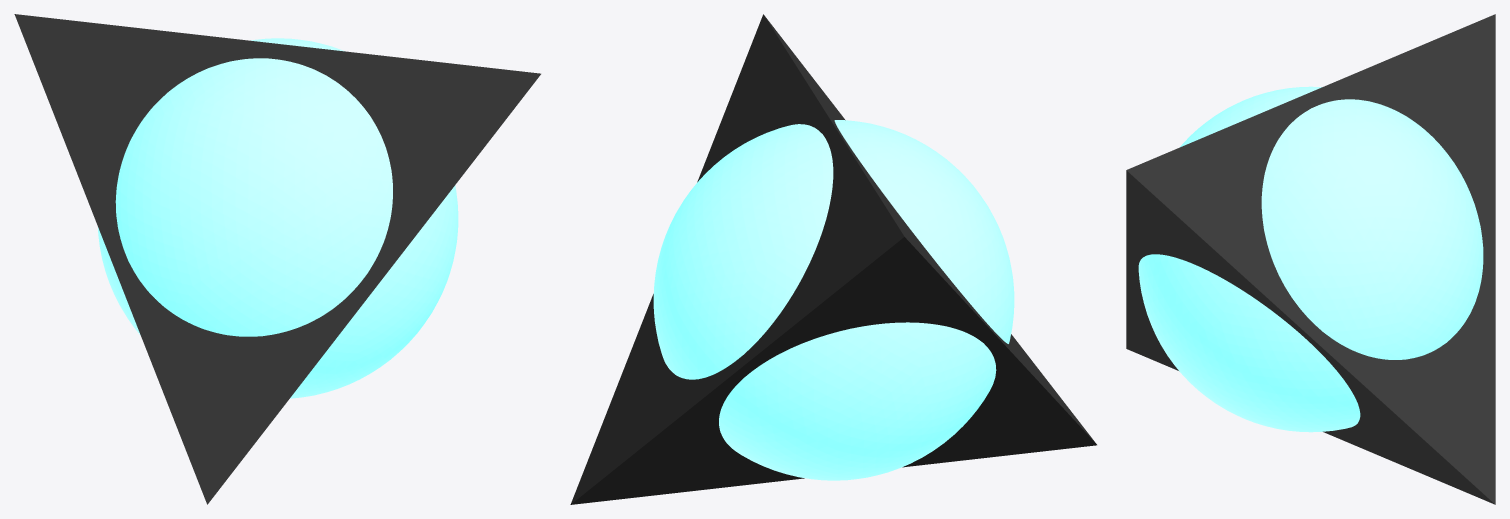
Rendered from svetelny_orb_v_tetrahedronu.glb.
3 renders of one model, left to right at view 1: azimuth 30°, elevation 25°; view 2: azimuth 150°, elevation 25°; view 3: azimuth 270°, elevation 25°, orthographic. The views are drawn at different scales.
Visible parts, largest first — view 1: TurquoiseOrb, BlackTetrahedron; view 2: TurquoiseOrb, BlackTetrahedron; view 3: TurquoiseOrb, BlackTetrahedron.
Boxes of the visible parts, x1=… form: TurquoiseOrb: x1=98, y1=38, x2=458, y2=398; BlackTetrahedron: x1=14, y1=14, x2=540, y2=504; TurquoiseOrb: x1=653, y1=120, x2=1014, y2=480; BlackTetrahedron: x1=570, y1=14, x2=1096, y2=504; TurquoiseOrb: x1=1138, y1=86, x2=1483, y2=432; BlackTetrahedron: x1=1126, y1=14, x2=1495, y2=504.
Size of the model in its own units: 2.31 by 2.31 by 2.31.
